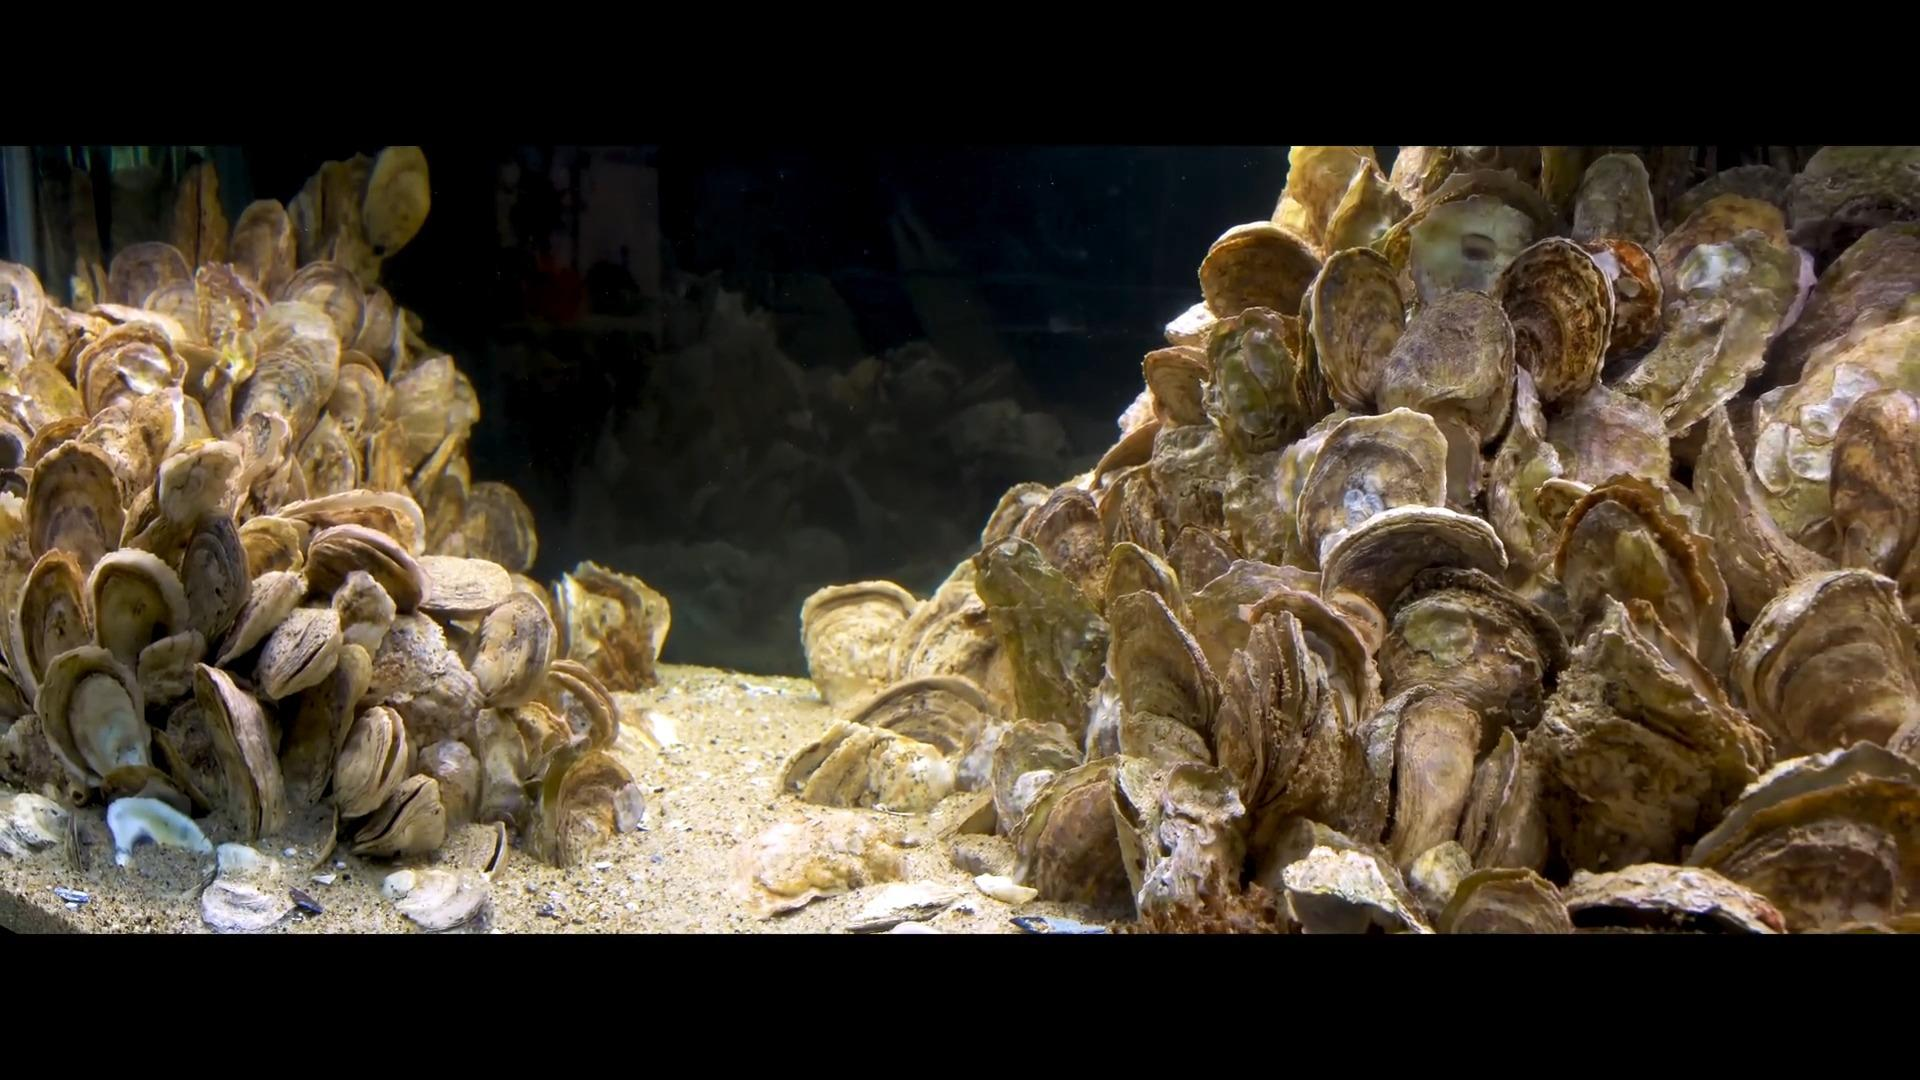Oyster: (1520, 591, 1772, 880), (1617, 218, 1808, 436), (1730, 566, 1919, 758), (1545, 472, 1726, 661), (1692, 402, 1833, 629), (1373, 570, 1564, 733), (968, 533, 1110, 735), (1767, 220, 1920, 398), (1357, 683, 1501, 872), (1696, 803, 1911, 928), (1295, 407, 1447, 567), (1373, 284, 1520, 446), (1112, 757, 1247, 930), (1494, 232, 1621, 409), (1245, 583, 1382, 740), (1398, 173, 1552, 307), (1006, 758, 1135, 918), (1323, 506, 1505, 615), (1828, 385, 1920, 591), (1101, 580, 1216, 744), (1485, 378, 1575, 585), (773, 716, 960, 814), (190, 663, 287, 844), (1305, 245, 1410, 414), (36, 644, 148, 798), (1184, 555, 1327, 676), (1203, 303, 1313, 458), (1538, 381, 1677, 501), (796, 576, 916, 711), (553, 559, 671, 694), (1279, 839, 1441, 935), (1453, 720, 1545, 876), (26, 439, 127, 576), (1196, 222, 1328, 326), (86, 546, 190, 675), (67, 396, 173, 520), (360, 609, 475, 721), (1785, 145, 1917, 240), (13, 549, 95, 699), (1146, 418, 1242, 545), (978, 717, 1084, 832), (897, 589, 1000, 707), (302, 521, 427, 616), (1213, 650, 1283, 814), (231, 340, 331, 454), (551, 750, 646, 869), (849, 673, 990, 749), (388, 345, 475, 469), (467, 587, 556, 705), (1436, 864, 1582, 936), (177, 510, 252, 650), (76, 324, 185, 421), (1017, 479, 1112, 584), (328, 705, 414, 820), (247, 295, 344, 396), (1320, 156, 1412, 261), (1580, 236, 1662, 355), (1114, 708, 1213, 803), (218, 570, 310, 670), (1568, 152, 1660, 252), (152, 434, 244, 533), (276, 488, 423, 549), (278, 673, 343, 811), (1671, 164, 1799, 233), (359, 141, 433, 260), (161, 698, 232, 818), (255, 605, 343, 702), (277, 257, 365, 352), (538, 658, 620, 760), (351, 774, 448, 857), (1100, 538, 1183, 636), (452, 479, 537, 572), (1419, 406, 1487, 521), (473, 719, 535, 840), (1163, 521, 1250, 607), (409, 737, 481, 836), (327, 566, 398, 666), (105, 239, 196, 316), (194, 258, 269, 352), (406, 551, 518, 613), (498, 696, 576, 783), (1139, 343, 1213, 431), (228, 196, 294, 295), (394, 870, 496, 934), (293, 413, 361, 504), (231, 406, 295, 502), (318, 636, 375, 744), (11, 352, 84, 434), (96, 762, 194, 823), (410, 426, 469, 525), (199, 874, 297, 934)
